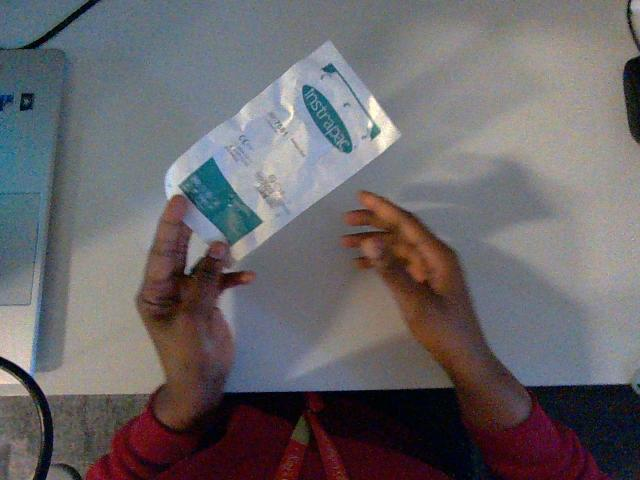gallipot: (165, 42, 399, 258)
